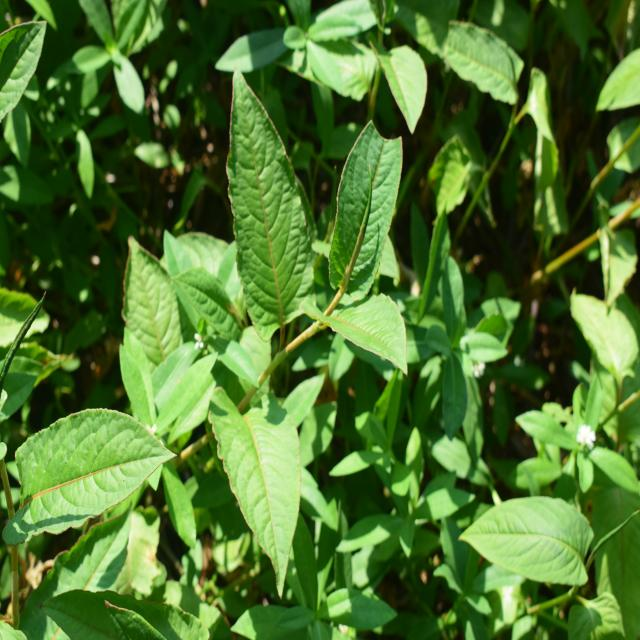Chinese_knotweed: (178, 62, 418, 566)
